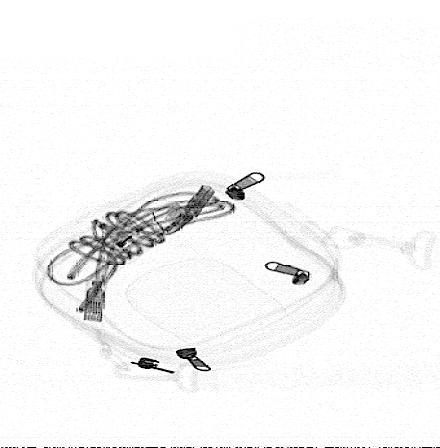Lighter: (109, 202, 188, 252)
